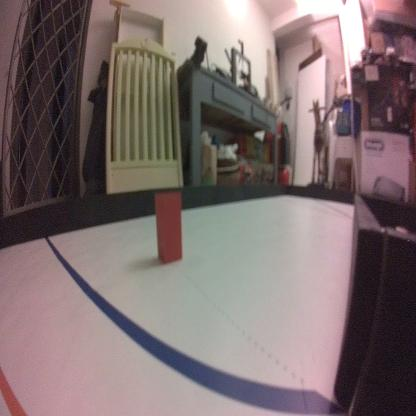red: (153, 187, 182, 264)
